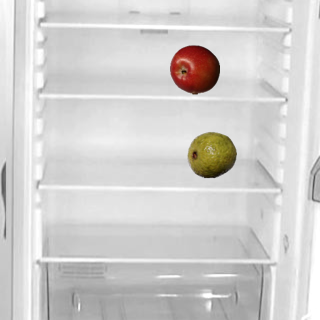Apple Braeburn: (169, 44, 219, 94)
Guava: (186, 129, 236, 179)
